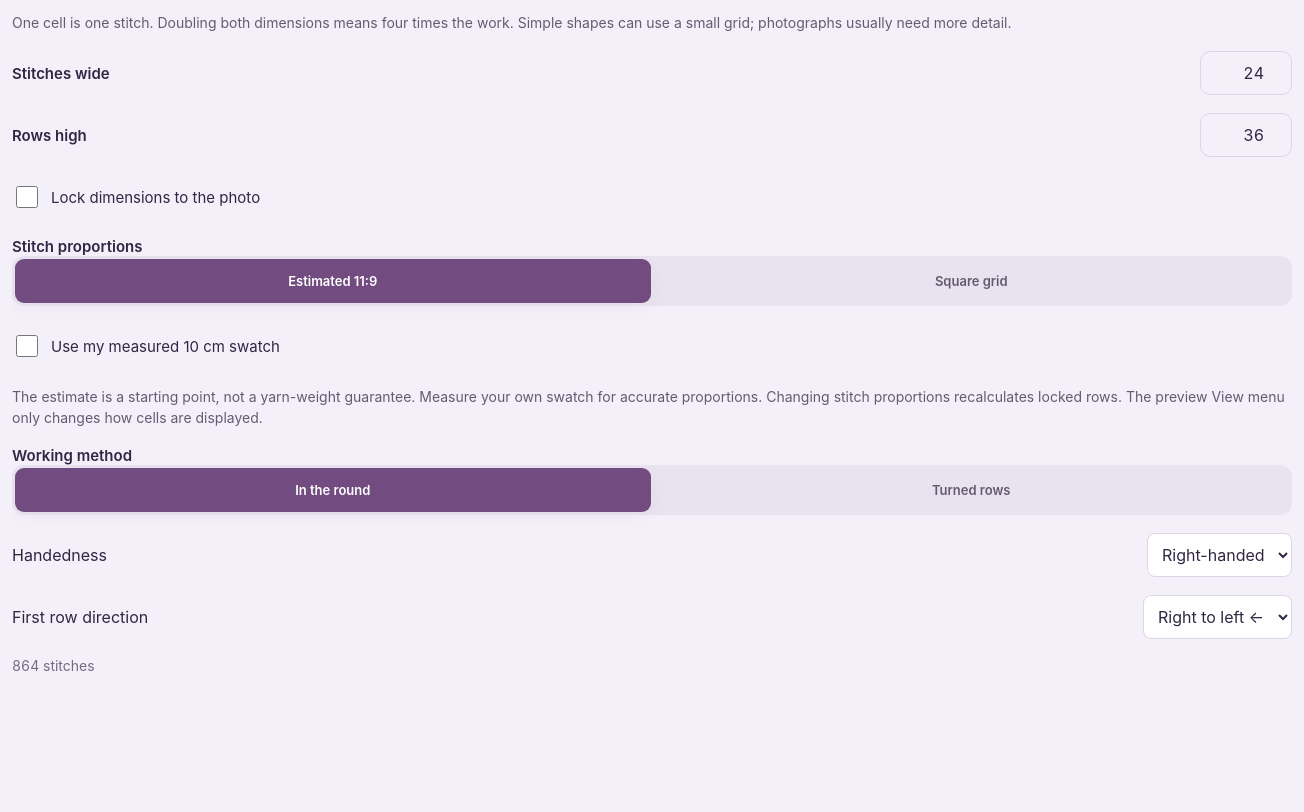
GridStage › restores the committed value when the field is left empty
Clear the number field labelled "Stitches wide" at (1246, 73), box [1200, 51, 1292, 95]
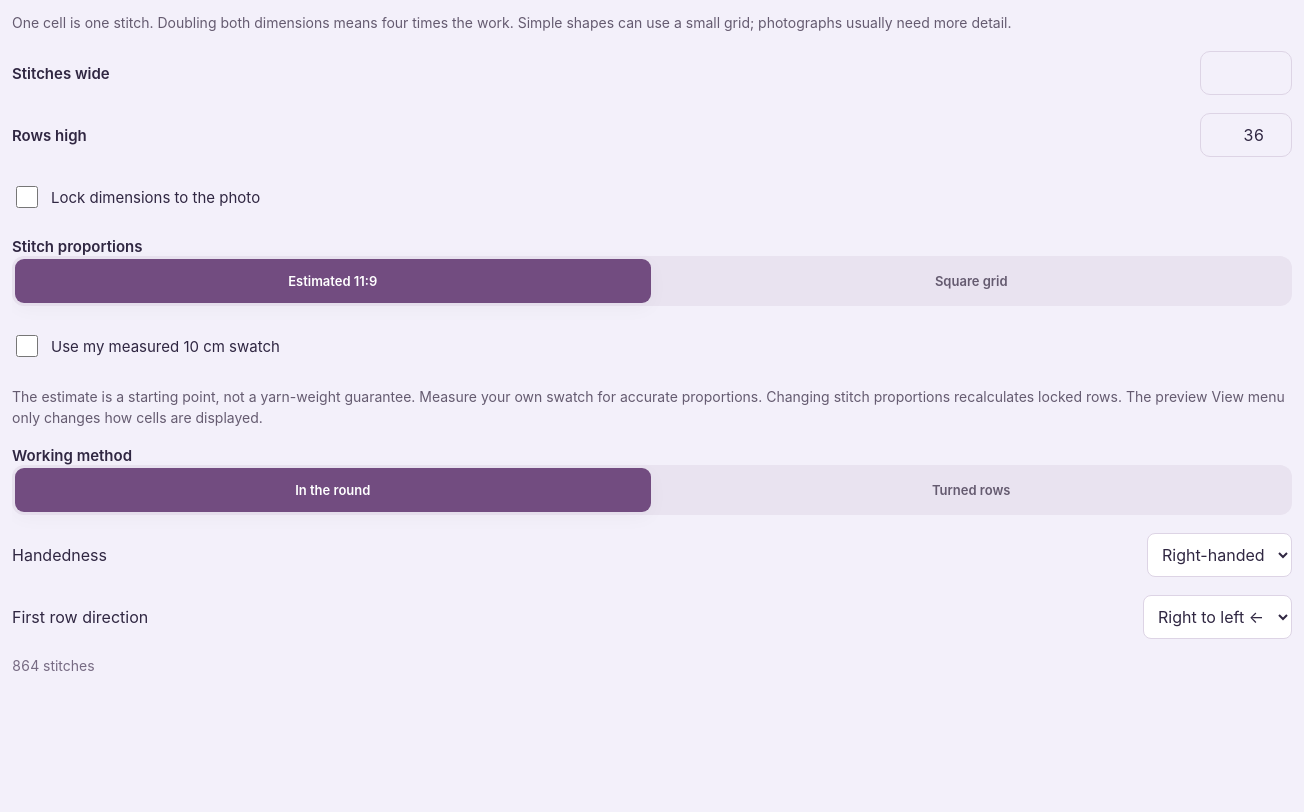
Leave the number field labelled "Stitches wide", box [1200, 51, 1292, 95]
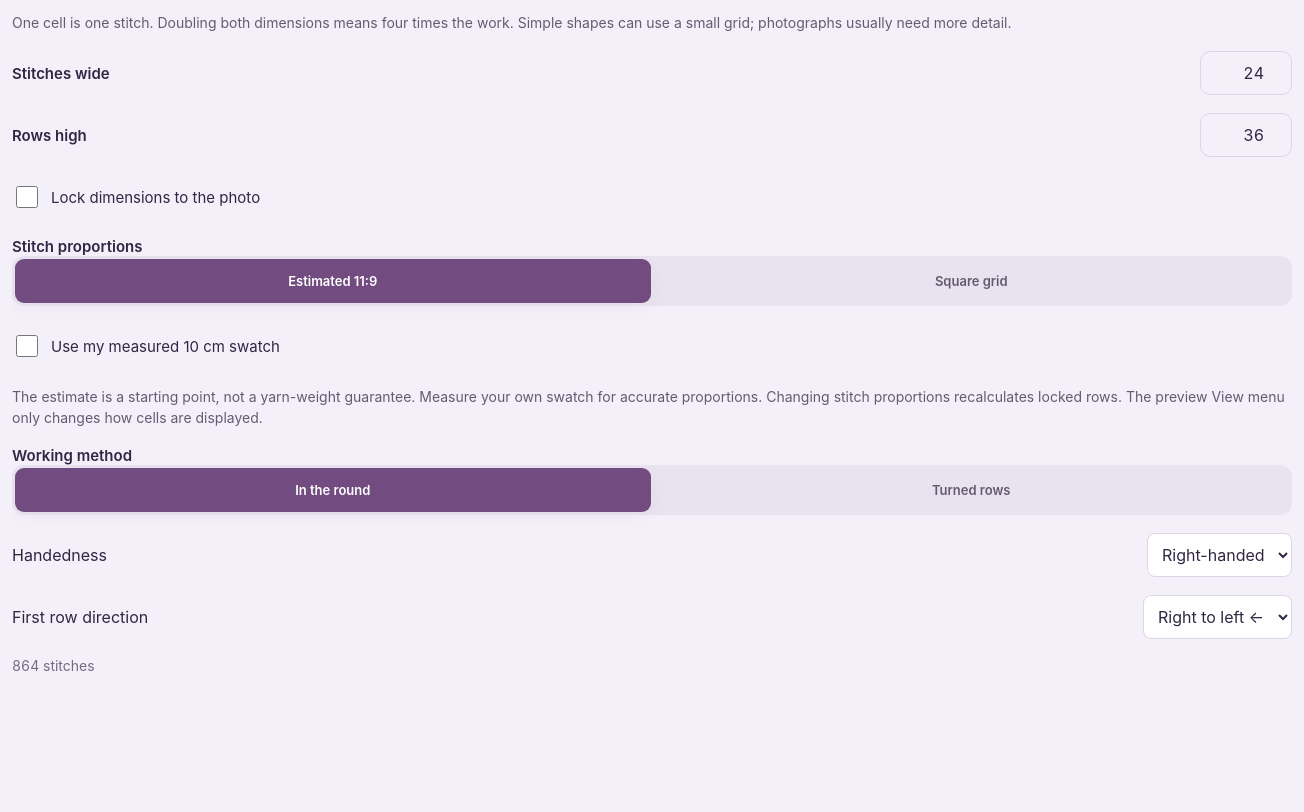
Expected: the number field labelled "Stitches wide" holds "24", [1200, 51, 1292, 95]
